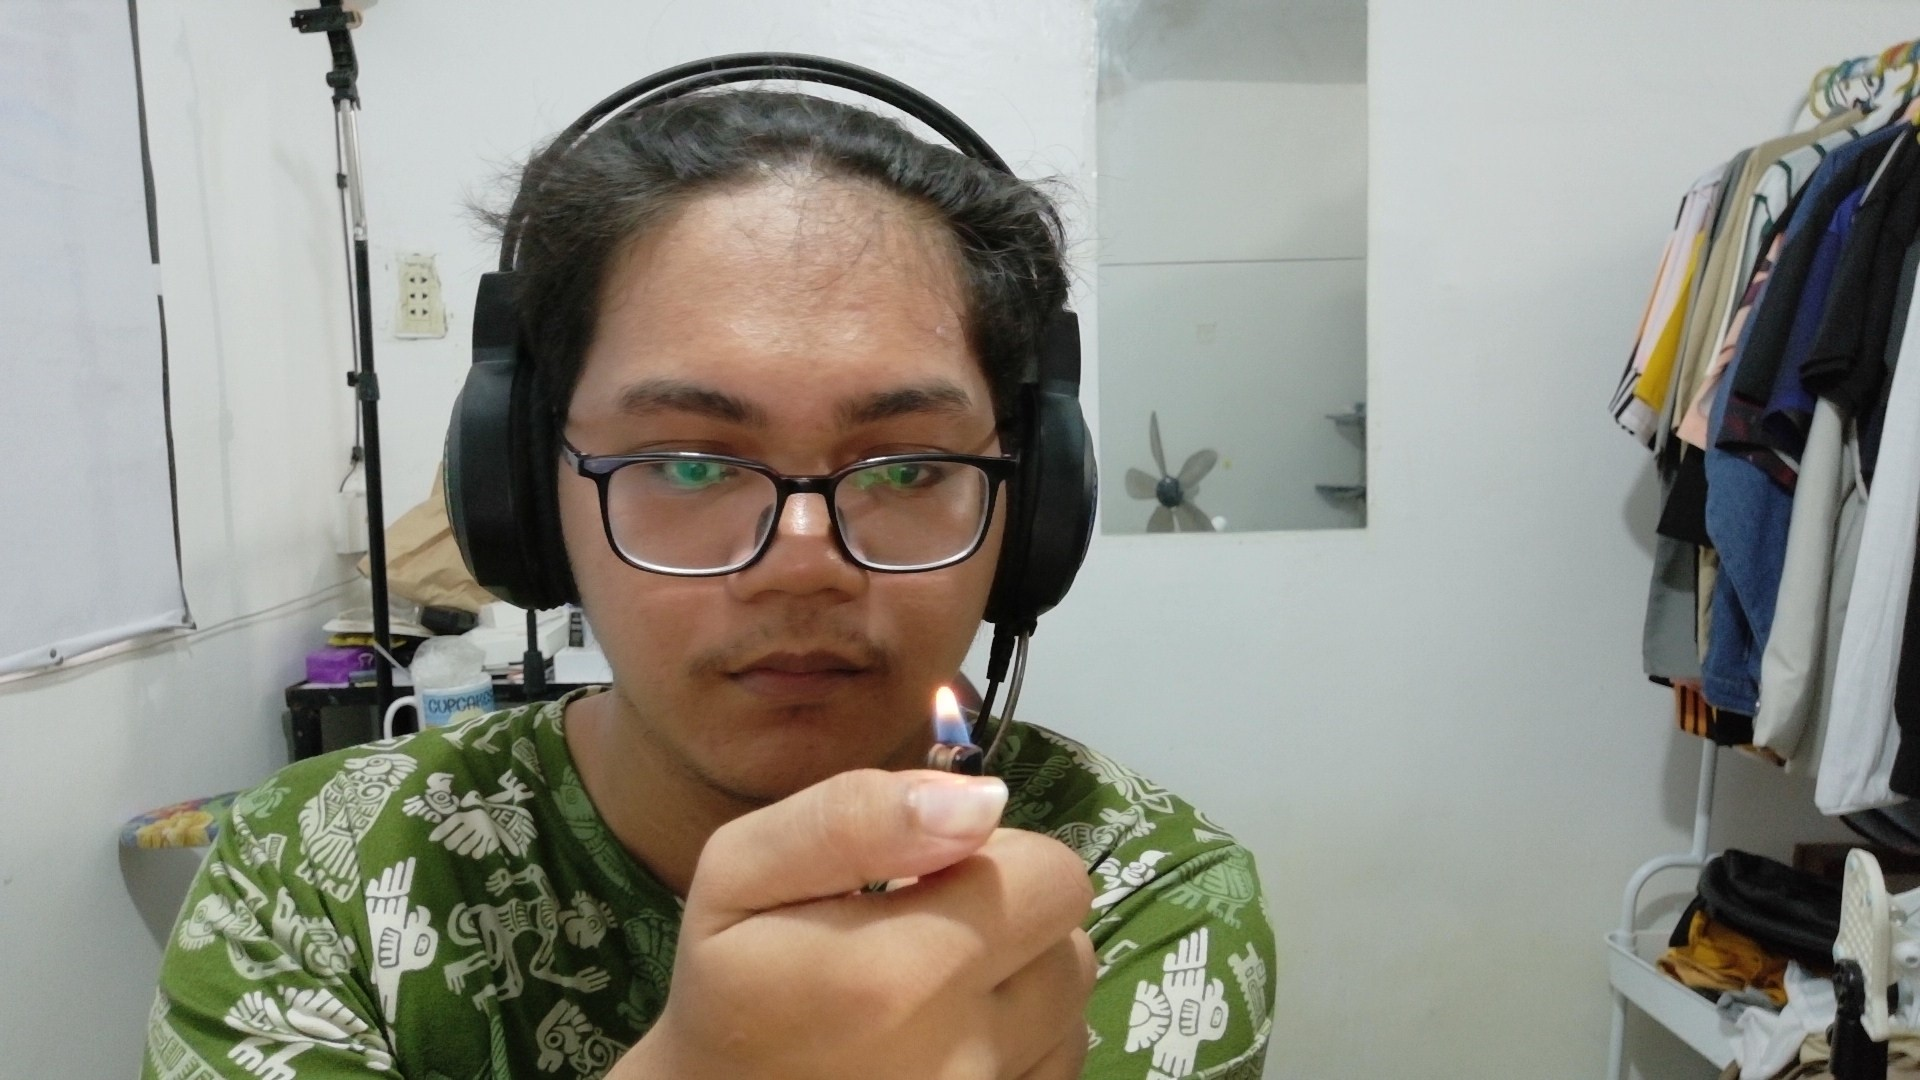fire: (876, 602, 1027, 793)
